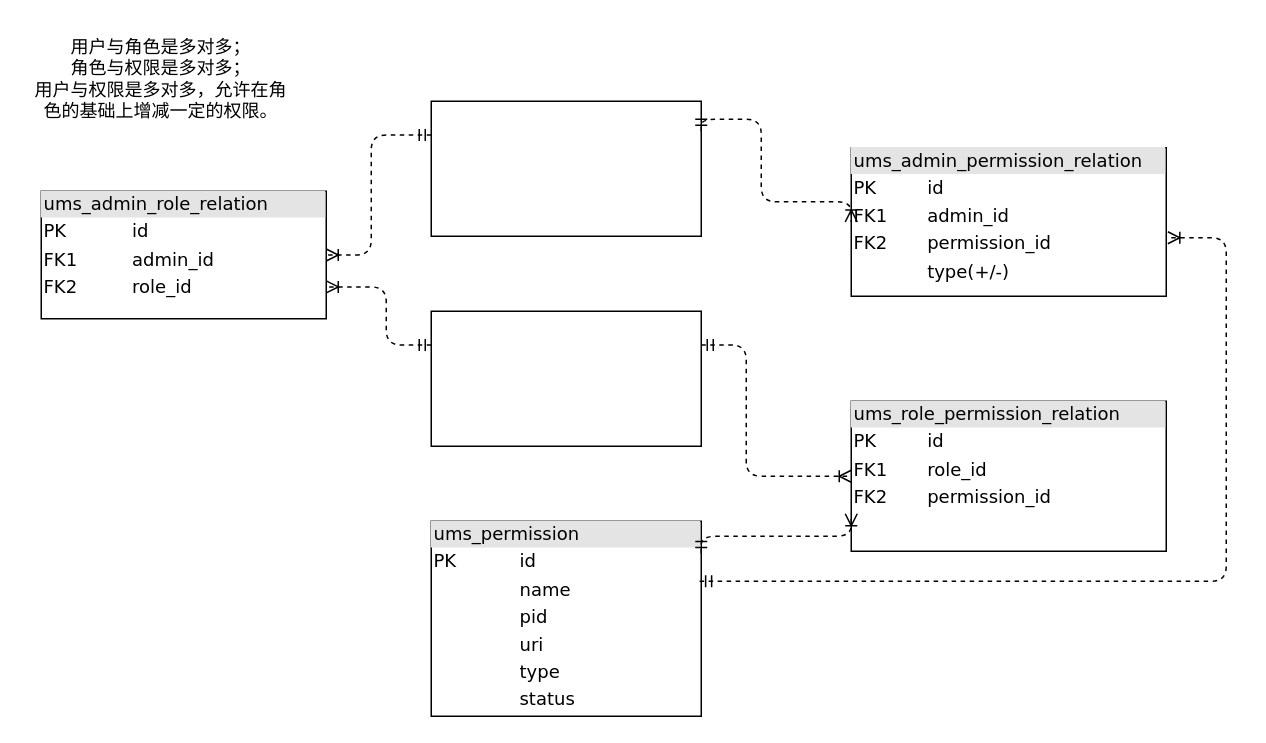
This 1266x743 diagram has some shape labels left out. The centre of each missing label's shape, as x and y in pixels:
ums_admin PK id username password: the point at 565,168
ums_role PK id name description create_time: the point at 565,378
